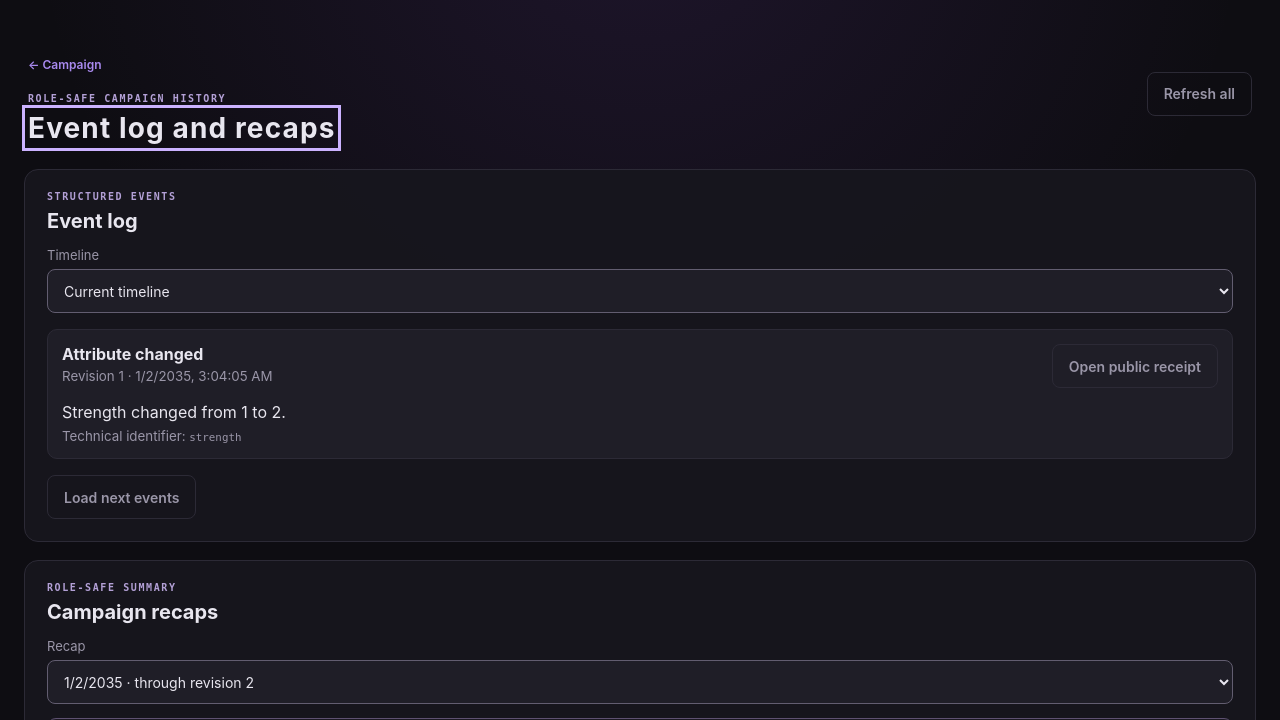
Test: campaign history experience › uses bounded cursor pagination, role-safe recap absence, and explicit fork language
This screenshot has width=1280, height=720.
Expected: the text "Strength changed from 1 to 2." is shown, [62, 402, 286, 422]
Click the button "Open public receipt". click: point(1135, 366)
box: [1052, 344, 1218, 388]
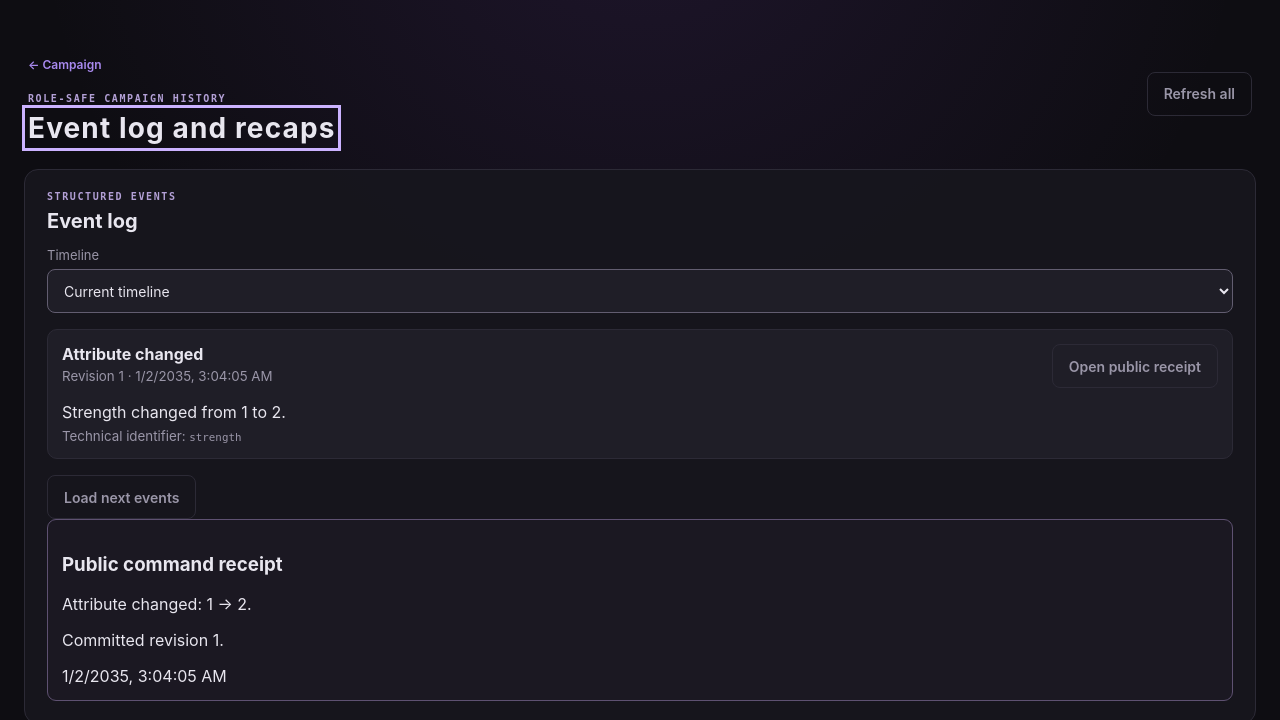
Expected: the text "Attribute changed: 1 → 2." is shown, [62, 594, 252, 614]
Click the button "Load next events". click: point(122, 497)
box: [47, 475, 196, 519]
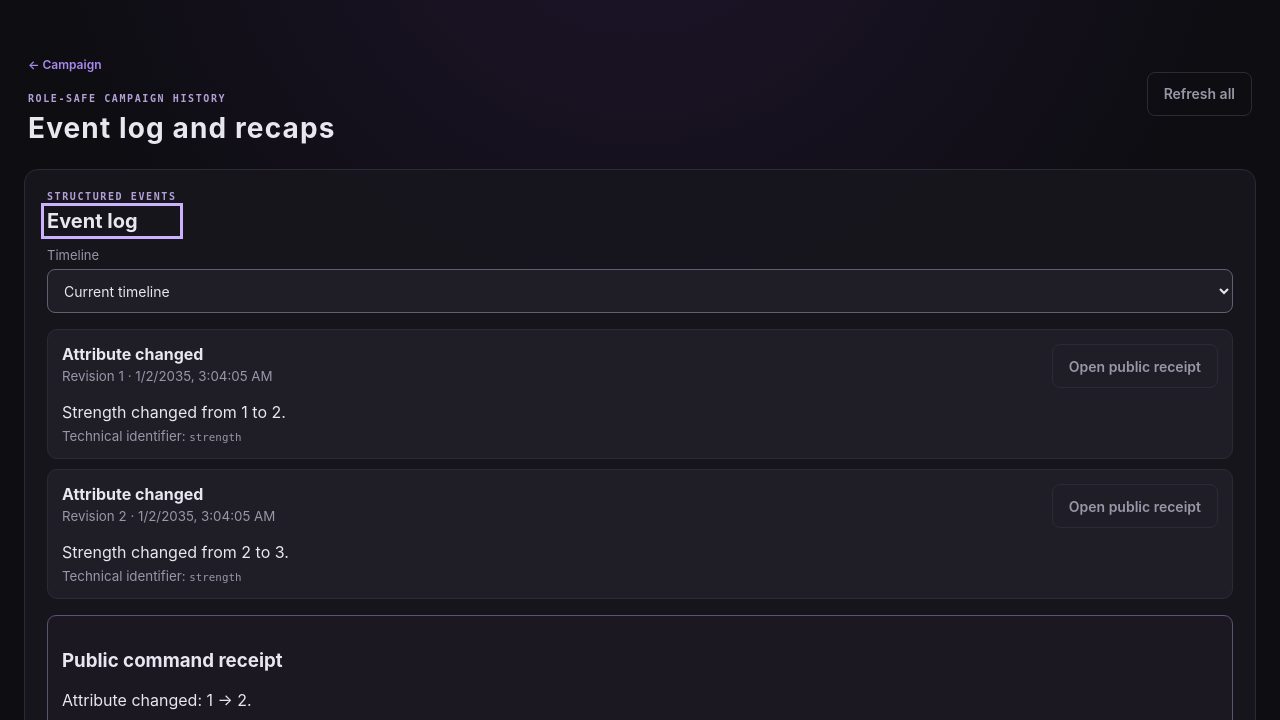
Expected: the text "Strength changed from 2 to 3." is shown, [62, 542, 289, 562]
